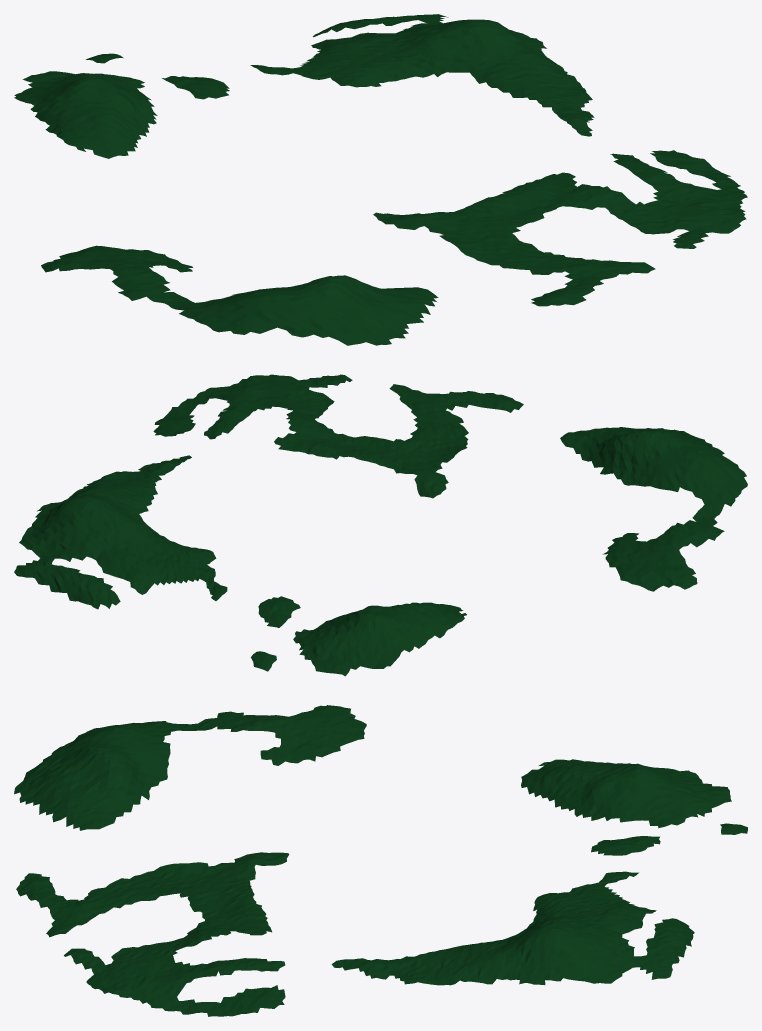
The model's file is ZEME_001_SUNAS.FBX.
3 renders of one model, top to bottom at view 1: azimuth 30°, elevation 25°; view 2: azimuth 150°, elevation 25°; view 3: azimuth 270°, elevation 25°, orthographic. The views are drawn at different scales.
Visible parts, largest first — view 1: ZEME_001_SUNAS; view 2: ZEME_001_SUNAS; view 3: ZEME_001_SUNAS.
Part boxes in pixels (<box>): ZEME_001_SUNAS: <box>14,14,747,345</box>; ZEME_001_SUNAS: <box>14,374,747,676</box>; ZEME_001_SUNAS: <box>14,705,747,1016</box>.
Size of the model in its own units: 190727 by 14196 by 196363.
